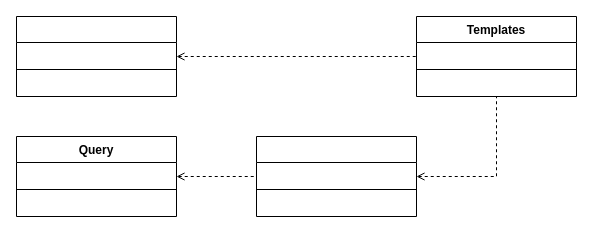
The diagram is 593 pixels wide and 233 high, and some of its shapes have lost their labels. The shapes that lost their labels are listed below. From the top down, each one's box as (x1, y1, x2, y2) in pixels, then its label:
(16, 16, 176, 96): Session
(256, 136, 416, 216): Database
